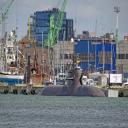submarine: (38, 70, 111, 97)
